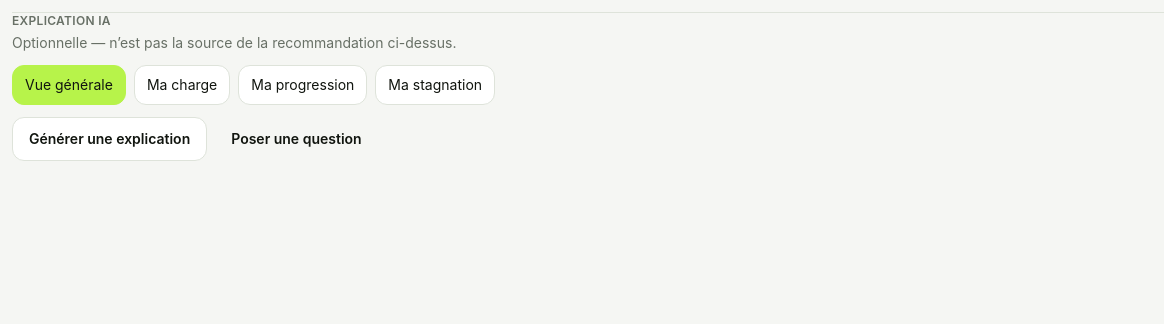
it: ExerciseCoachAiExplanation (5.5) › génère à la demande et affiche le résultat
Step 1. Click the button "Générer une explication" → (110, 139), box [12,117,207,161]
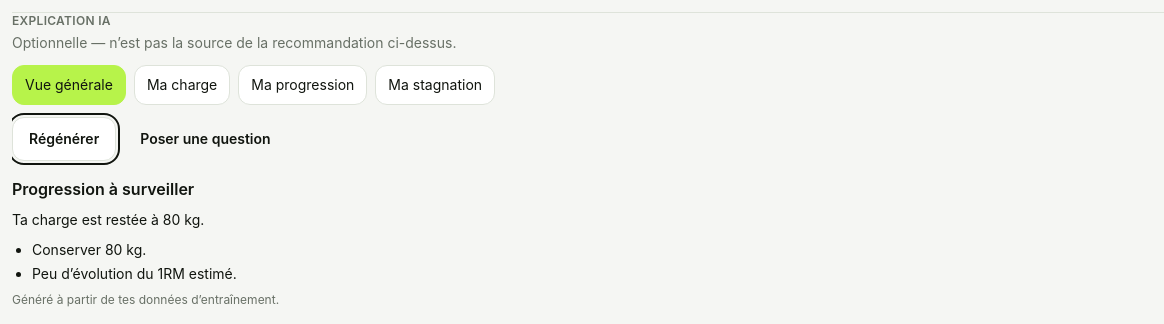
Now the heading "Progression à surveiller" is shown, box [12,179,194,199]
Now the text "Ta charge est restée à 80 kg." is shown, box [12,211,204,228]
Now the list item "Conserver 80 kg." is shown, box [32,241,146,258]
